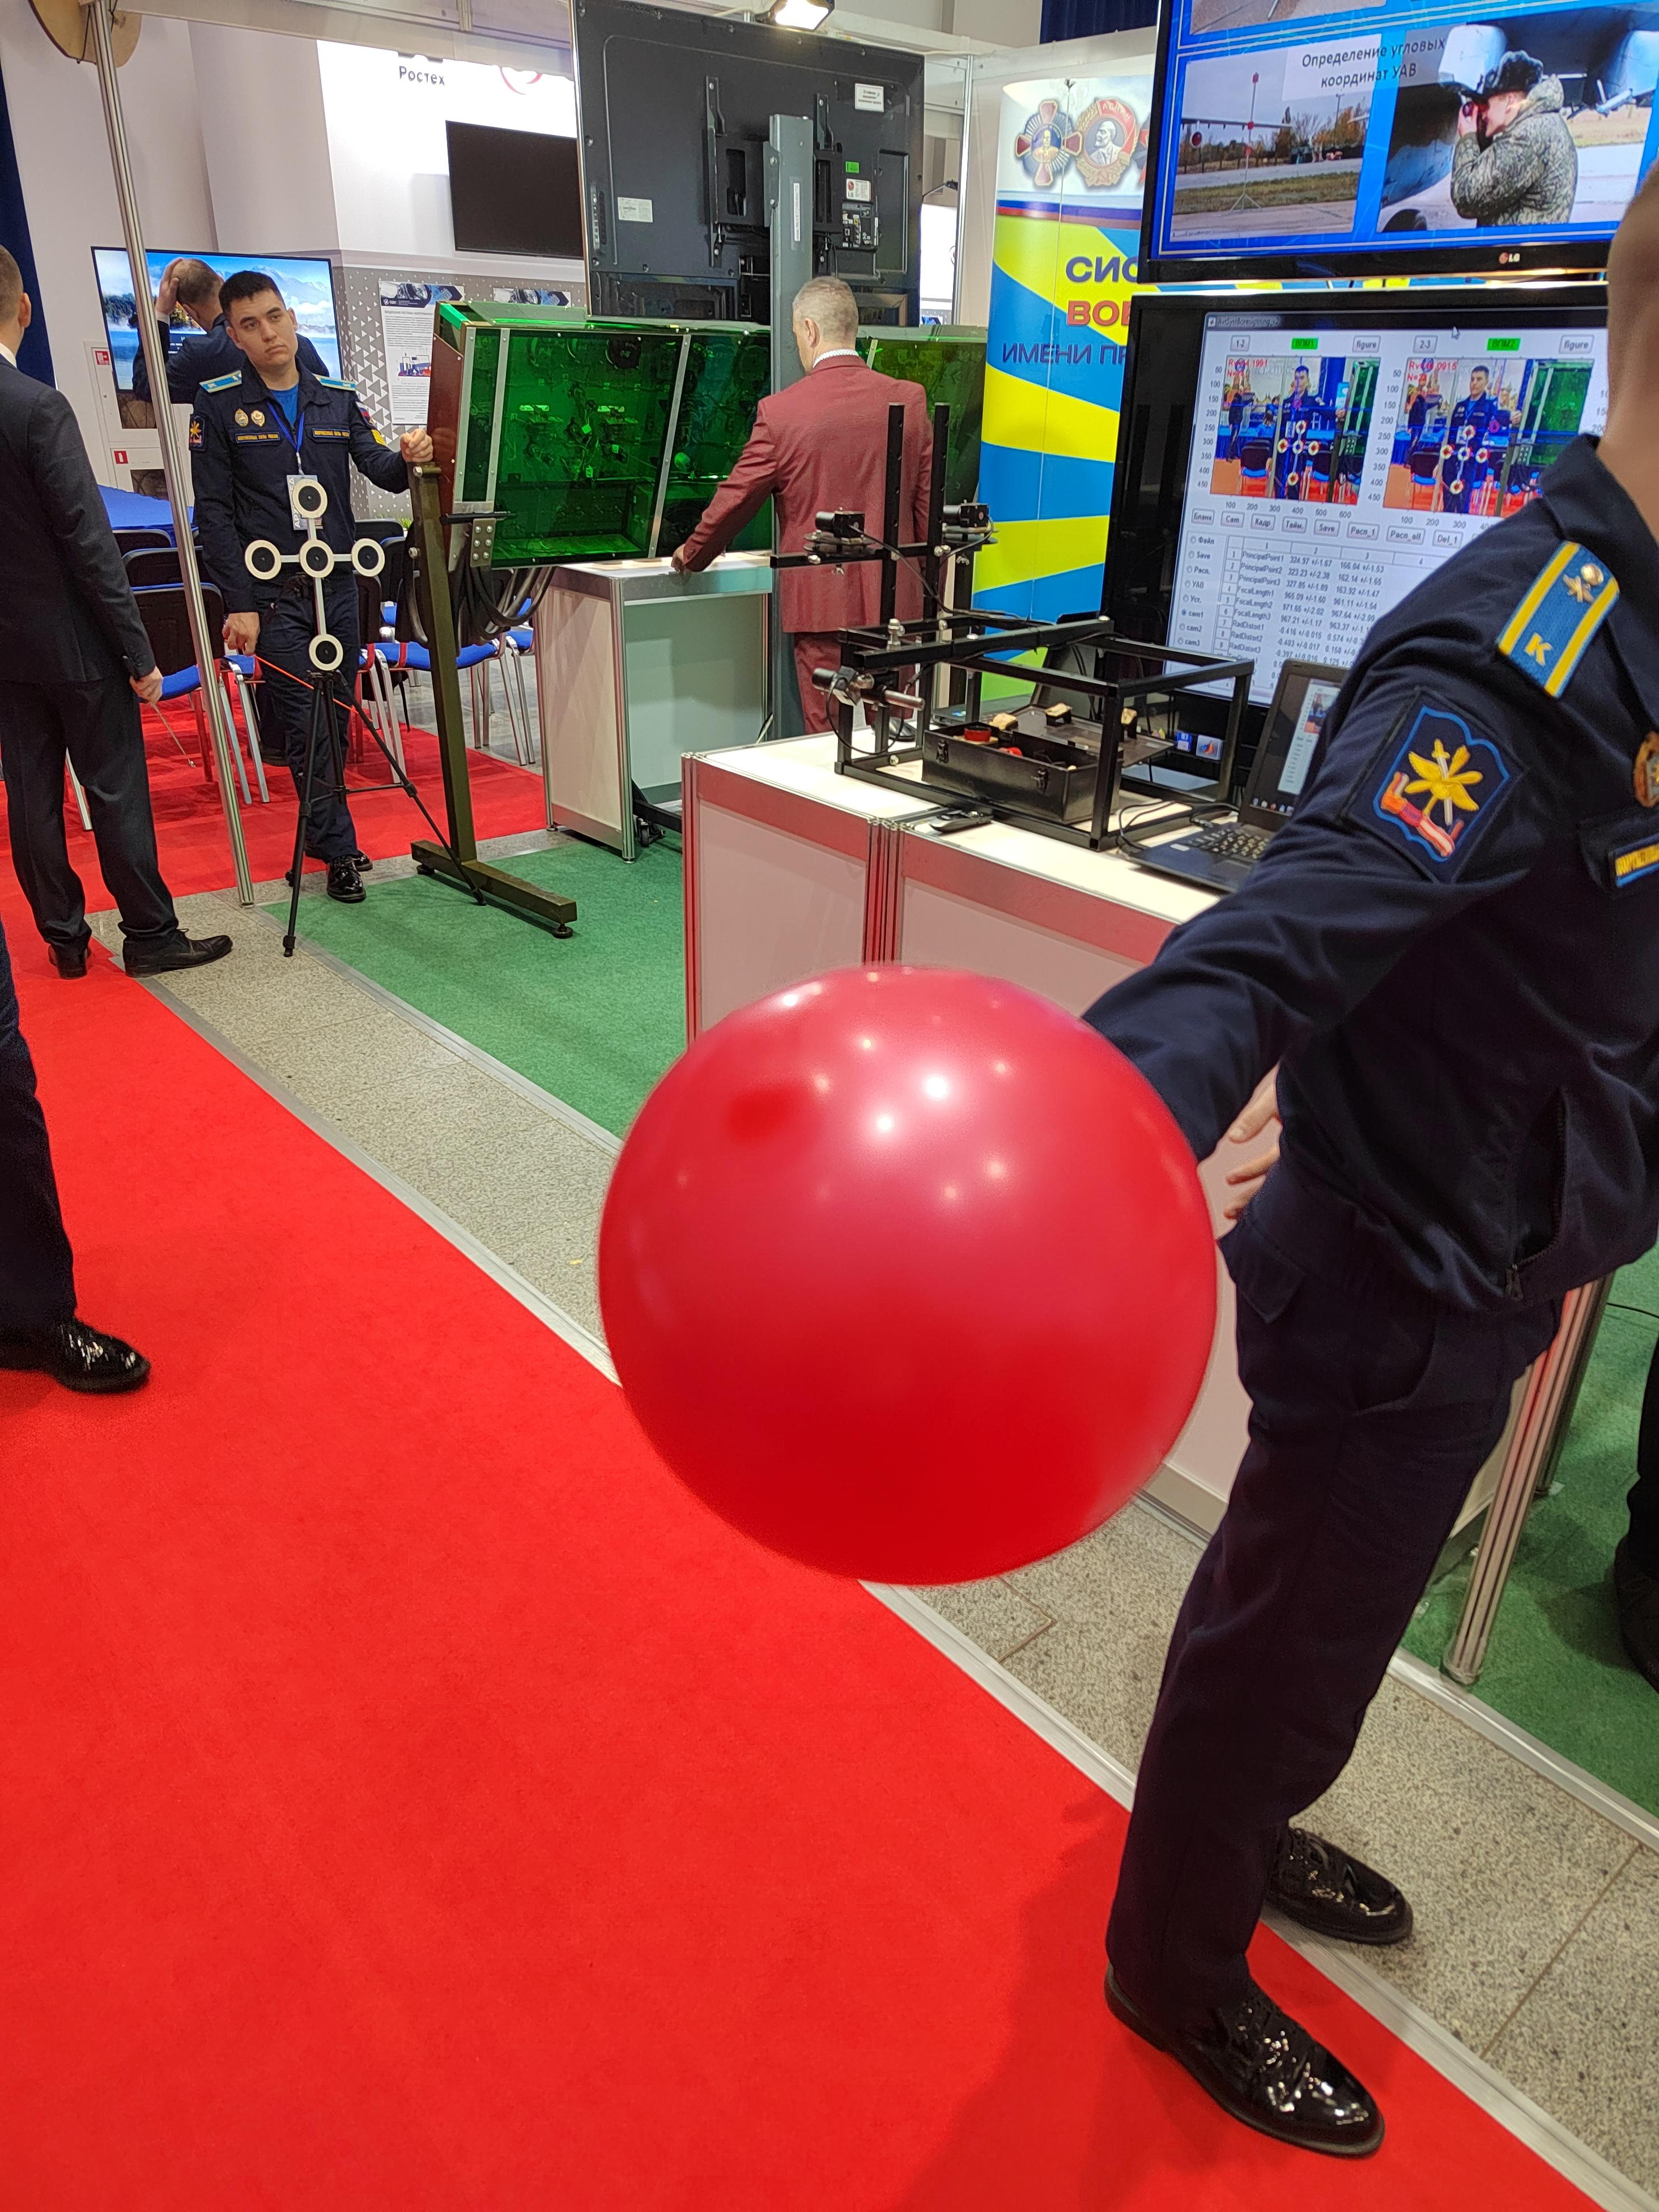red: (589, 953, 1216, 1590)
